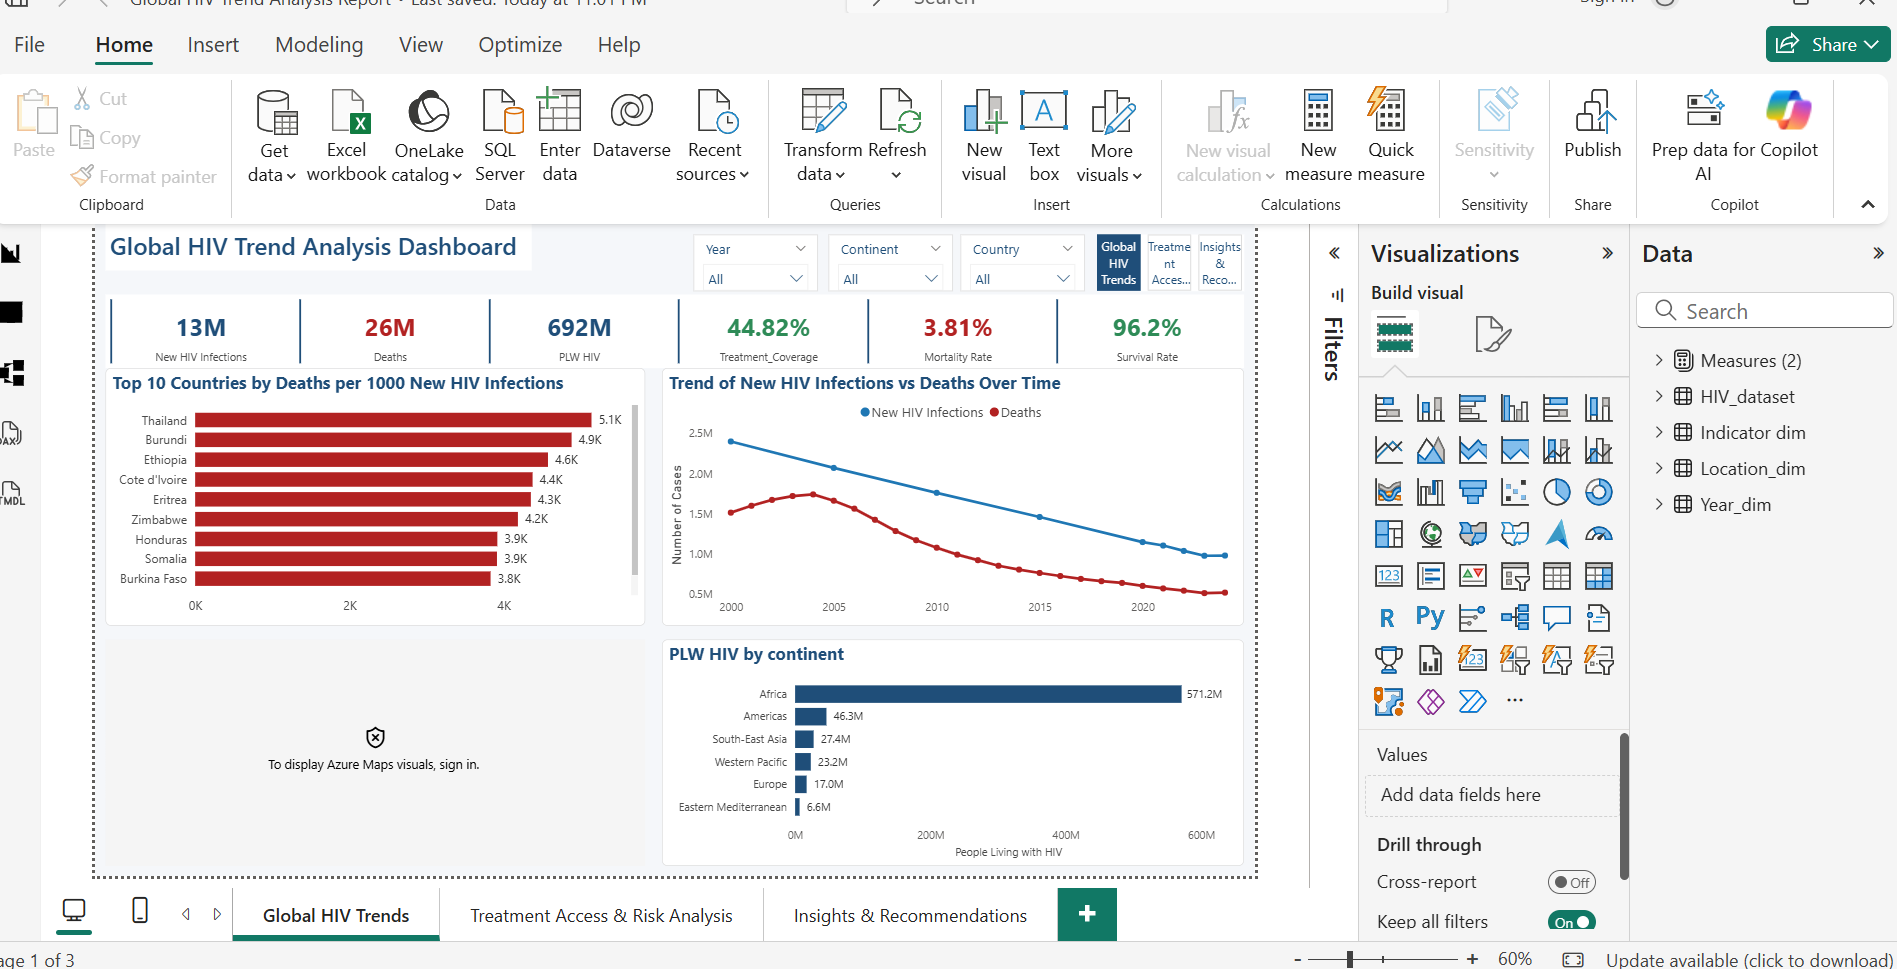

Layout of this report page (visuals, bound fields, positions):
{"tool":"powerbi","page":{"name":"Global HIV Trends","canvas":[1280,720],"ordinal":0},"visuals":[{"type":"shape","box":[0,0,1280.5,720.6],"z":0},{"type":"cardVisual","fields":{"Data":["Measures (2).New HIV Infections","Measures (2).Deaths","Measures (2).PLW HIV","Measures (2).Treatment_Coverage","Measures (2).Mortality Rate","Measures (2).Survival Rate"]},"box":[11.6,77.9,1257.3,81.2],"z":1000},{"type":"clusteredBarChart","title":"Top 10 Countries by Deaths per 1000 New HIV Infections","fields":{"Category":["Location_dim.country"],"Y":["Measures (2).Deaths Per 1000 New Infections"]},"box":[11.6,159,596.3,284.9],"z":2000},{"type":"lineChart","title":"Trend of New HIV Infections vs Deaths Over Time","fields":{"Category":["Year_dim.year"],"Y":["Measures (2).New HIV Infections","Measures (2).Deaths"]},"box":[626.1,159,642.7,284.9],"z":3000},{"type":"azureMap","title":"PLW HIV by Continent","fields":{"Category":["Location_dim.continent"],"Size":["Measures (2).PLW HIV"]},"box":[11.6,458.8,596.3,250.1],"z":4000},{"type":"clusteredBarChart","fields":{"Category":["Location_dim.continent"],"Y":["Measures (2).PLW HIV"]},"box":[626.1,458.8,642.7,250.1],"z":5000},{"type":"textbox","box":[11.6,0,470.4,51.4],"z":6000},{"type":"slicer","fields":{"Values":["Year_dim.year"]},"box":[660.9,11.6,137.5,62.9],"z":7000},{"type":"slicer","fields":{"Values":["Location_dim.continent"]},"box":[810,11.6,137.5,62.9],"z":8000},{"type":"slicer","fields":{"Values":["Location_dim.country"]},"box":[955.8,11.6,137.5,62.9],"z":9000},{"type":"pageNavigator","box":[1106.5,11.6,162.3,62.9],"z":10000}]}

Visuals, with their boxes on the page's 1280x720 design canvas (x1, y1, x2, y2). These are canvas units, not pixel positions in the 1897x969 screenshot, which may show the page scaled, cropped or inside an application window:
shape: pyautogui.locateOnScreen(0, 0, 1280, 721)
cardVisual - Measures (2).New HIV Infections x Measures (2).Deaths: pyautogui.locateOnScreen(12, 78, 1269, 159)
"Top 10 Countries by Deaths per 1000 New HIV Infections" clusteredBarChart: pyautogui.locateOnScreen(12, 159, 608, 444)
"Trend of New HIV Infections vs Deaths Over Time" lineChart: pyautogui.locateOnScreen(626, 159, 1269, 444)
"PLW HIV by Continent" azureMap: pyautogui.locateOnScreen(12, 459, 608, 709)
clusteredBarChart - Location_dim.continent x Measures (2).PLW HIV: pyautogui.locateOnScreen(626, 459, 1269, 709)
textbox: pyautogui.locateOnScreen(12, 0, 482, 51)
slicer - Year_dim.year: pyautogui.locateOnScreen(661, 12, 798, 74)
slicer - Location_dim.continent: pyautogui.locateOnScreen(810, 12, 948, 74)
slicer - Location_dim.country: pyautogui.locateOnScreen(956, 12, 1093, 74)
pageNavigator: pyautogui.locateOnScreen(1106, 12, 1269, 74)
